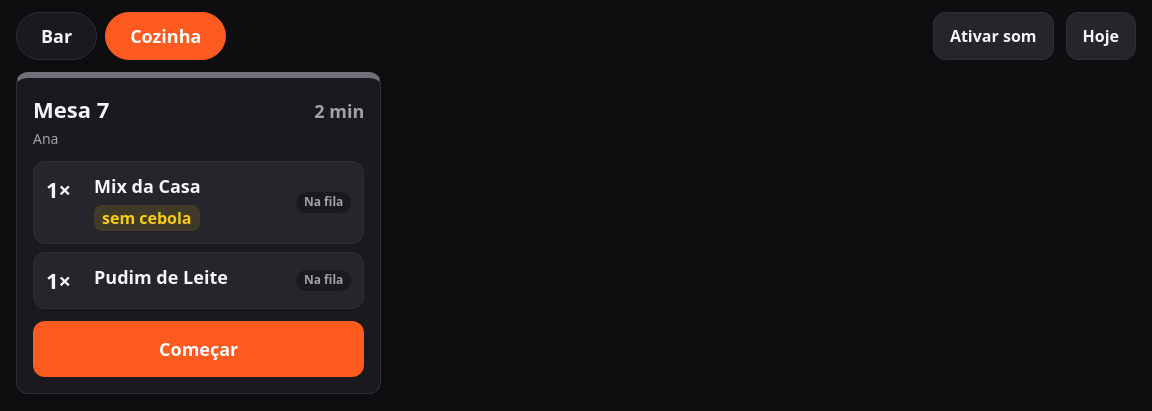
TelaProducao › mostra os pedidos da estação escolhida e troca pelo chip
Check: the text "Mix da Casa" is shown, box [94,174,201,198]
Check: the element "Mesa 8" is not shown
Click the button "Bar" at (57,36), box [16,12,97,60]
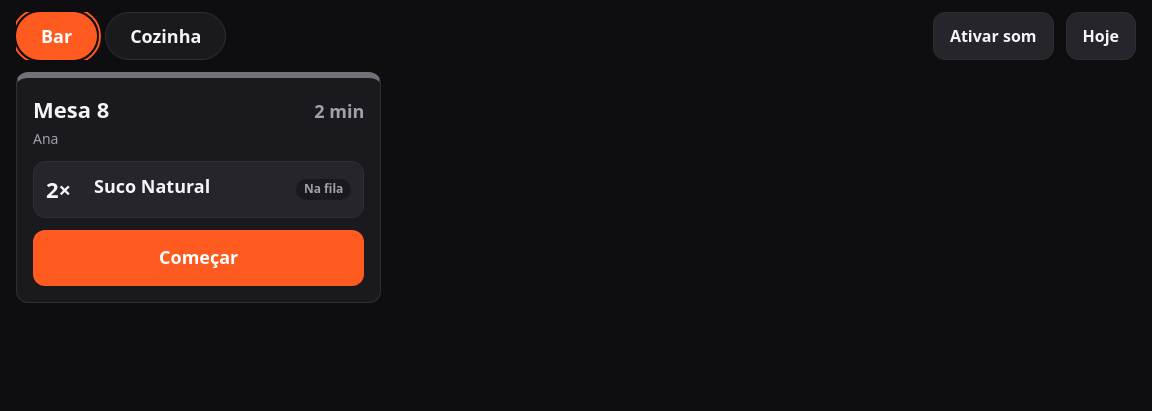
Check: the text "Suco Natural" is shown, box [94,174,210,198]
Check: the text "2×" is shown, box [46,174,71,204]
